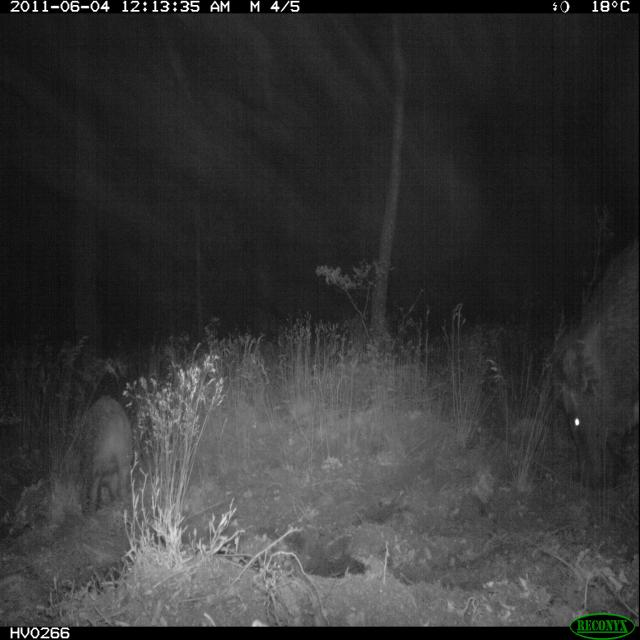boar: (536, 204, 640, 501), (47, 367, 161, 529)
